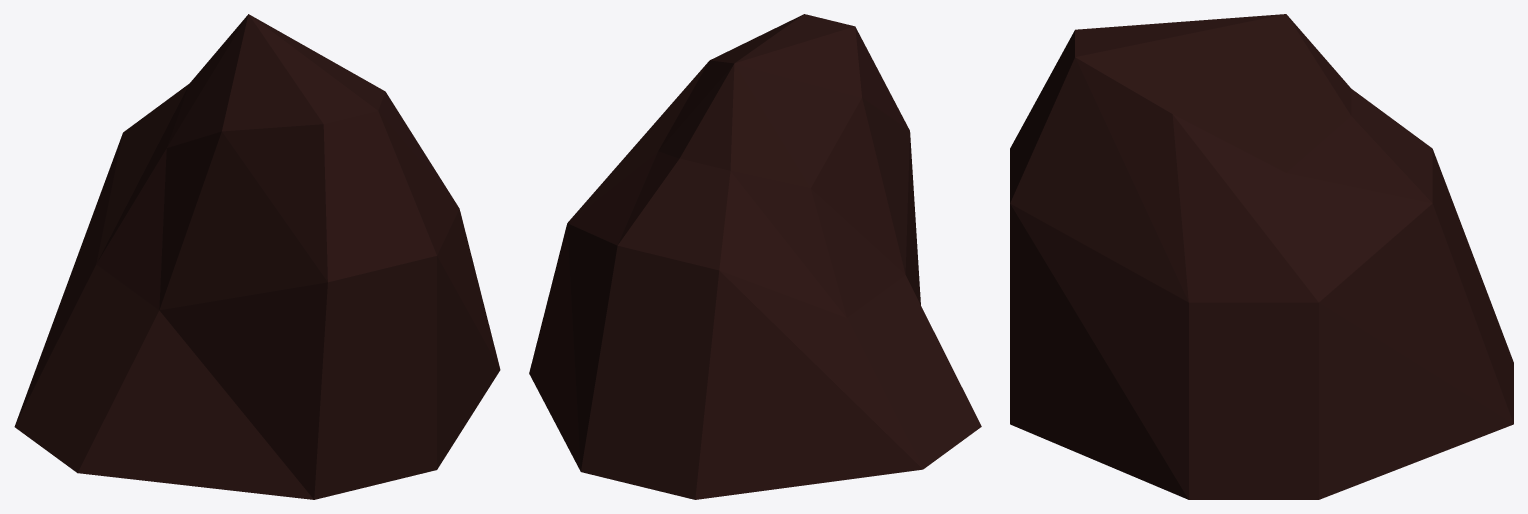
The model's file is inv_charcoal.obj.
3 views of the same model, side by side, from view 1: azimuth 30°, elevation 25°; view 2: azimuth 150°, elevation 25°; view 3: azimuth 270°, elevation 25° (orthographic). The views are drawn at different scales.
Size of the model in its own units: 0.2422 by 0.2031 by 0.2422.
